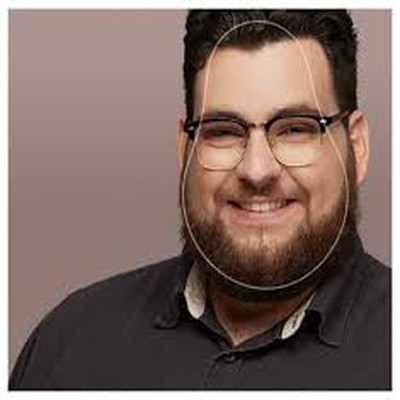eywear: (185, 97, 360, 179)
